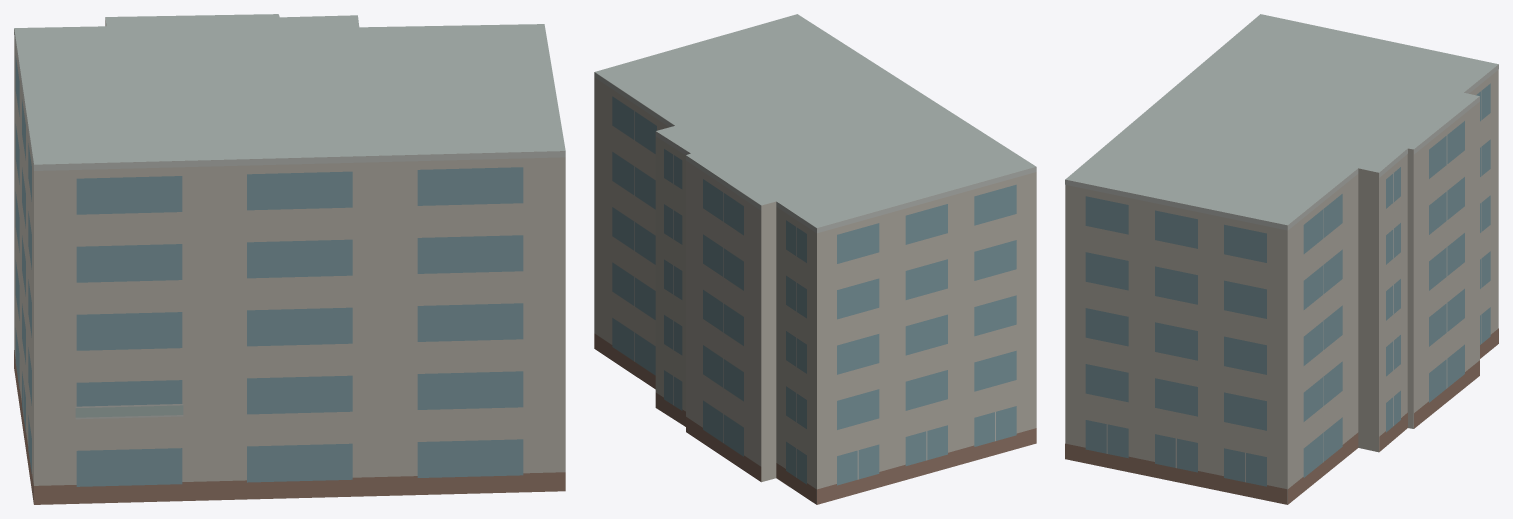
File: survey-upis-32842780.glb
3 views of the same model, side by side, from view 1: azimuth 30°, elevation 25°; view 2: azimuth 150°, elevation 25°; view 3: azimuth 270°, elevation 25° (orthographic). The views are drawn at different scales.
Parts seen in each view (by area): view 1: survey-upis-32842780.tmp; view 2: survey-upis-32842780.tmp; view 3: survey-upis-32842780.tmp.
Part boxes in pixels (x1=…): survey-upis-32842780.tmp: x1=14, y1=14, x2=565, y2=504; survey-upis-32842780.tmp: x1=594, y1=14, x2=1036, y2=504; survey-upis-32842780.tmp: x1=1065, y1=14, x2=1498, y2=504.
Size of the model in its own units: 21.12 by 13.02 by 18.31.
